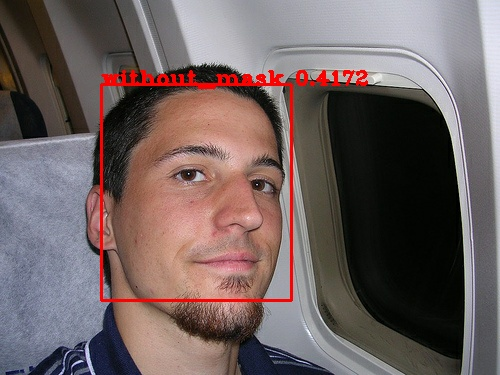without_mask: (106, 72, 313, 351)
